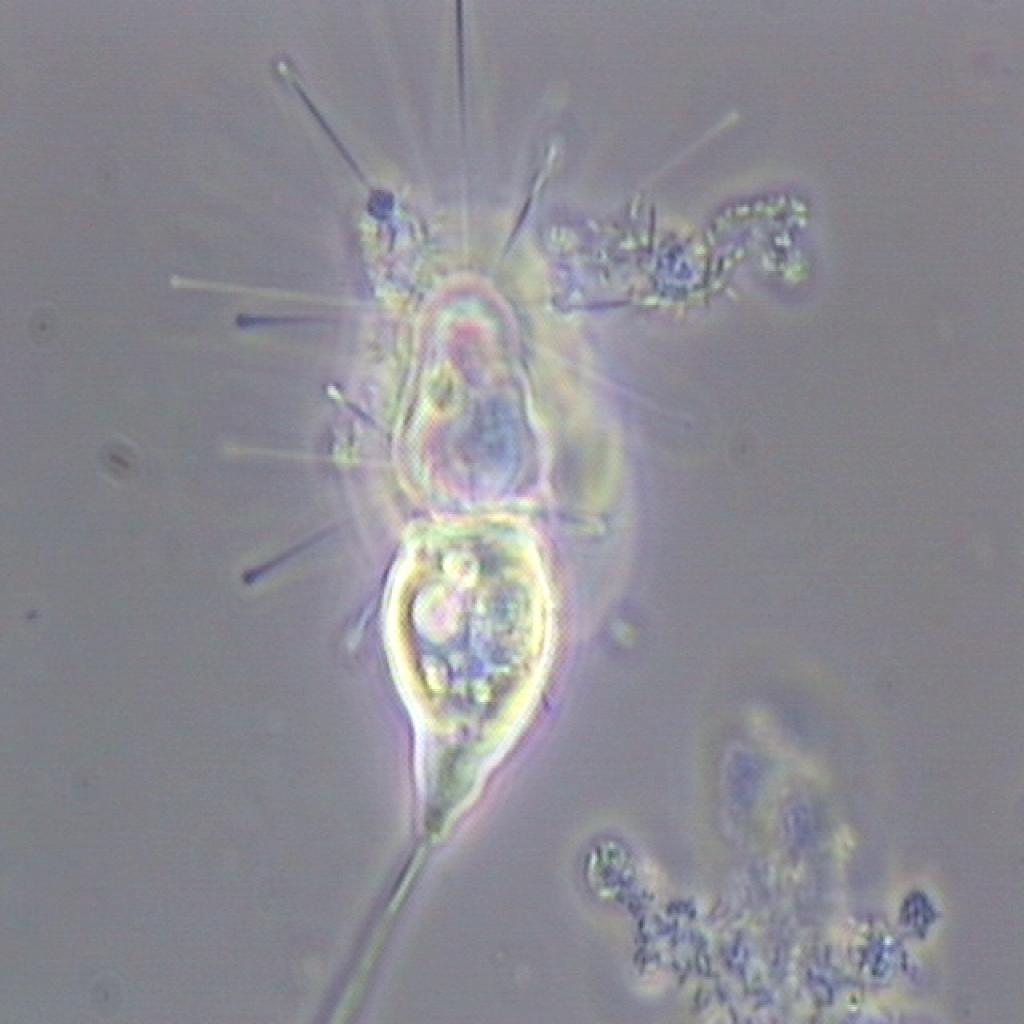Suctorida: (178, 29, 786, 878)
